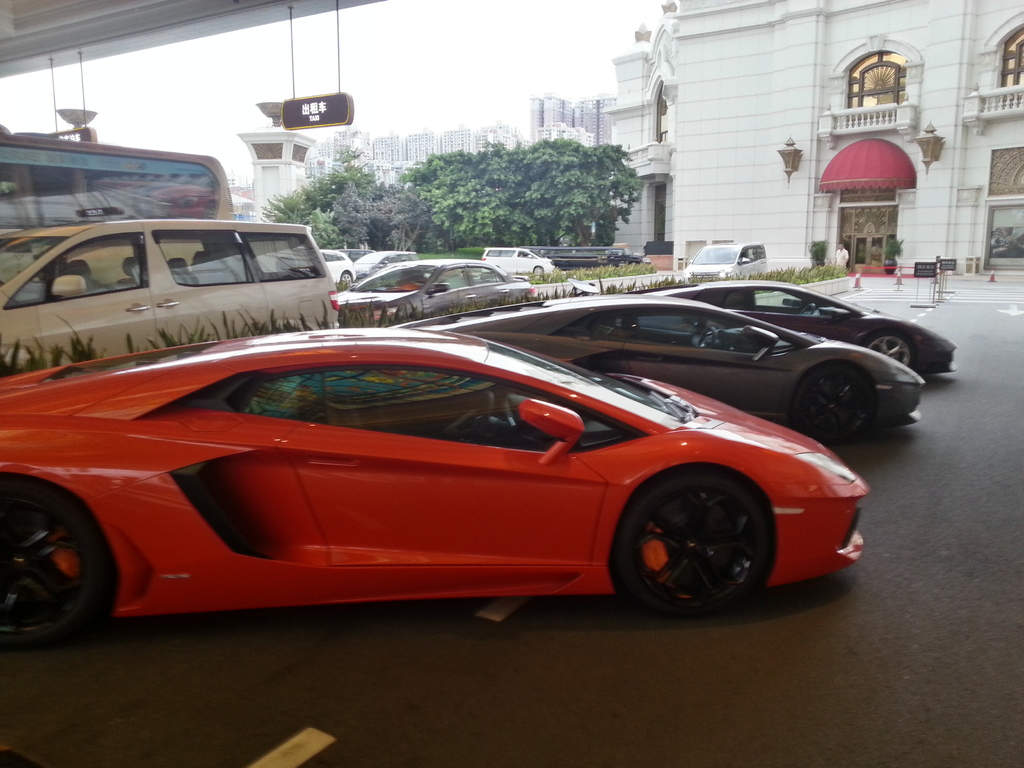Car: (2, 310, 888, 643), (387, 292, 926, 444), (0, 218, 335, 371), (640, 281, 958, 373), (335, 259, 538, 321), (684, 240, 762, 279), (482, 244, 556, 276), (316, 247, 356, 289), (355, 251, 414, 273), (344, 248, 372, 260)
